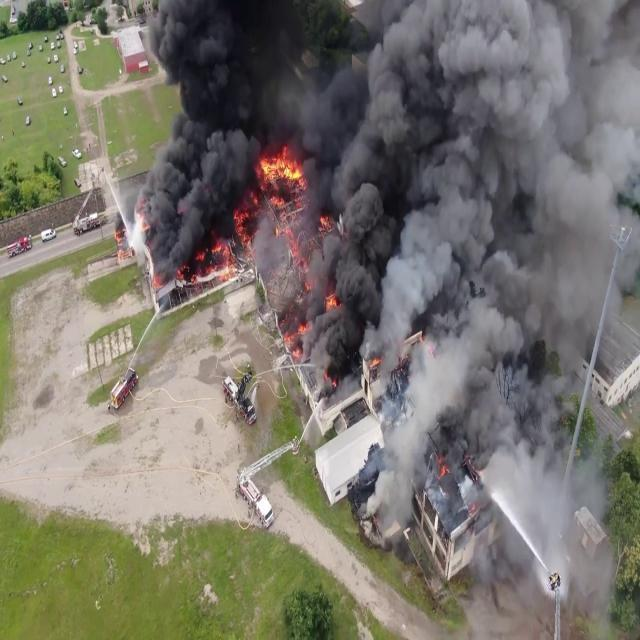Fire: (257, 134, 305, 198)
Smoke: (364, 0, 640, 527), (120, 0, 366, 320)
